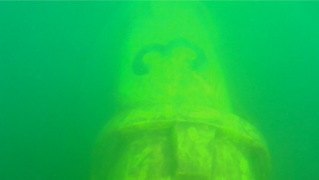3: (132, 37, 207, 75)
pipe: (96, 1, 273, 179)
